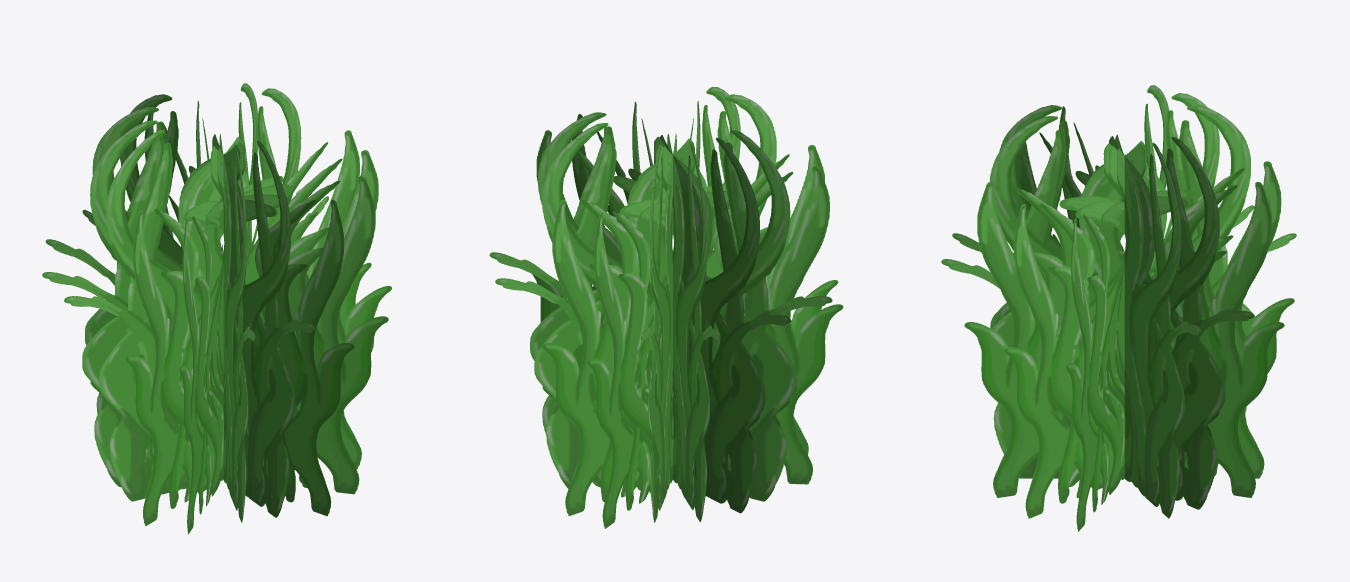
The model's file is grass.FBX.
3 renders of one model, left to right at view 1: azimuth 30°, elevation 25°; view 2: azimuth 150°, elevation 25°; view 3: azimuth 270°, elevation 25°, orthographic.
Visible parts, largest first — view 1: Plane124, Plane128, Plane130, Plane123, Plane125, Plane127, Plane126, Plane129; view 2: Plane127, Plane129, Plane123, Plane128, Plane124, Plane126, Plane125, Plane130; view 3: Plane125, Plane130, Plane128, Plane126, Plane129, Plane123, Plane127.
Boxes of the visible parts, left/top/right/bottom form: Plane124: left=64, top=130, right=371, bottom=501; Plane128: left=125, top=88, right=328, bottom=526; Plane130: left=82, top=94, right=354, bottom=516; Plane123: left=144, top=113, right=315, bottom=517; Plane125: left=45, top=107, right=388, bottom=494; Plane127: left=42, top=120, right=391, bottom=487; Plane126: left=179, top=83, right=257, bottom=534; Plane129: left=196, top=100, right=255, bottom=522; Plane127: left=572, top=114, right=791, bottom=513; Plane129: left=542, top=94, right=776, bottom=516; Plane123: left=587, top=86, right=740, bottom=528; Plane128: left=489, top=112, right=843, bottom=484; Plane124: left=532, top=130, right=832, bottom=501; Plane126: left=495, top=123, right=838, bottom=488; Plane125: left=632, top=101, right=720, bottom=522; Plane130: left=641, top=101, right=700, bottom=522; Plane125: left=1004, top=93, right=1253, bottom=518; Plane130: left=964, top=105, right=1296, bottom=497; Plane128: left=1052, top=106, right=1201, bottom=518; Plane126: left=1013, top=118, right=1253, bottom=509; Plane129: left=952, top=105, right=1284, bottom=497; Plane123: left=941, top=116, right=1294, bottom=478; Plane127: left=1066, top=85, right=1172, bottom=531.
Size of the model in its own units: 4.45 by 4.36 by 4.45.
